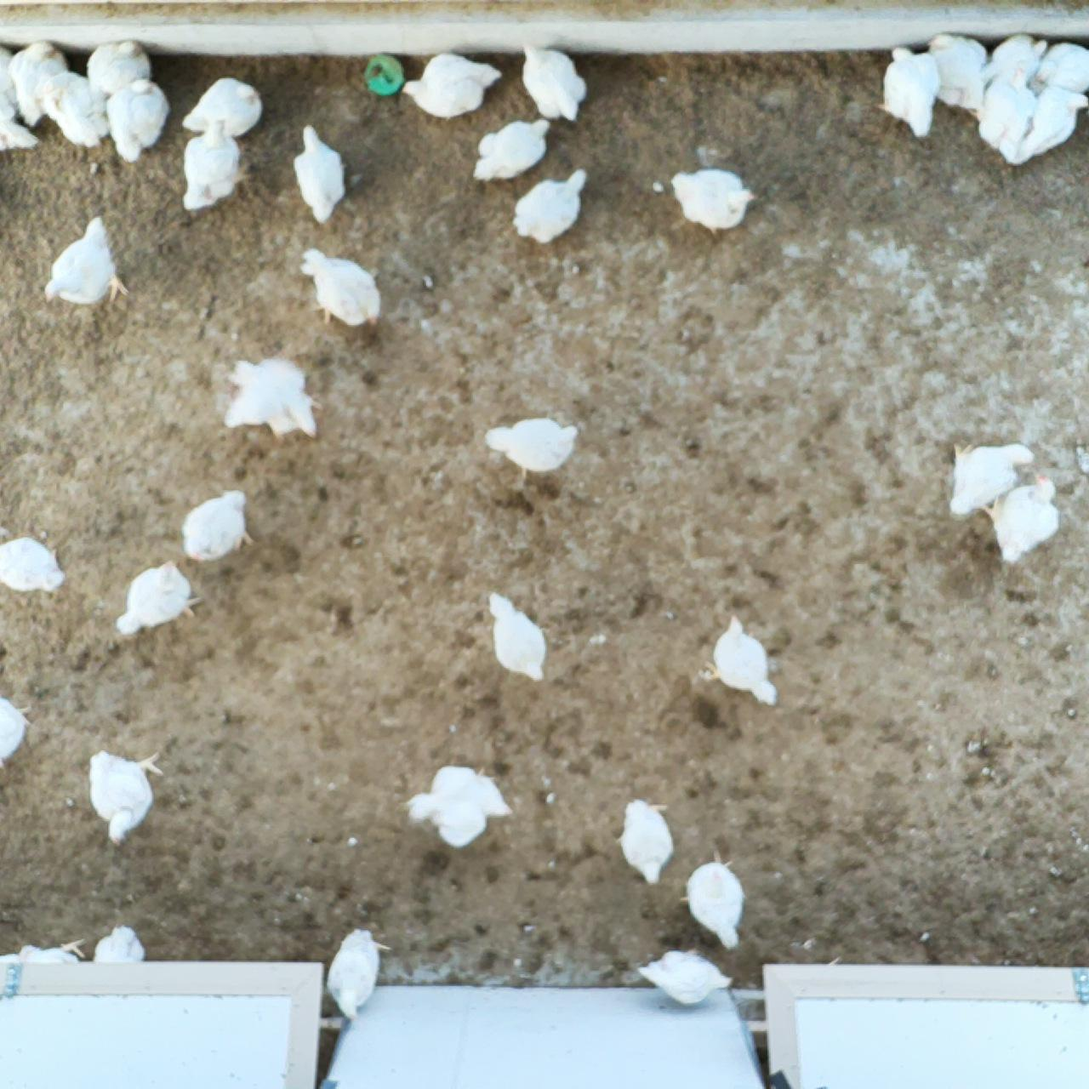chicken: (223, 348, 321, 443), (405, 762, 511, 849), (43, 210, 133, 312), (944, 432, 1033, 525), (85, 745, 165, 848), (698, 612, 779, 712), (298, 240, 386, 332), (393, 49, 506, 120), (973, 473, 1061, 563), (179, 117, 256, 215), (112, 559, 206, 637), (678, 845, 747, 951), (875, 39, 944, 144), (322, 927, 395, 1025), (513, 34, 593, 122), (975, 57, 1039, 162), (288, 123, 351, 225), (1011, 81, 1089, 163), (512, 167, 592, 244), (668, 165, 756, 235), (641, 946, 736, 1010), (12, 37, 74, 135), (105, 76, 173, 165), (482, 592, 550, 681), (483, 415, 579, 478), (180, 72, 265, 143), (471, 112, 553, 184), (36, 67, 107, 150), (927, 29, 993, 117), (181, 489, 258, 563), (85, 37, 154, 115), (3, 935, 91, 996), (986, 28, 1050, 109), (620, 795, 676, 885), (84, 921, 149, 987), (0, 533, 69, 595), (1032, 35, 1089, 96), (0, 78, 40, 156), (0, 692, 28, 771), (0, 31, 23, 123)
